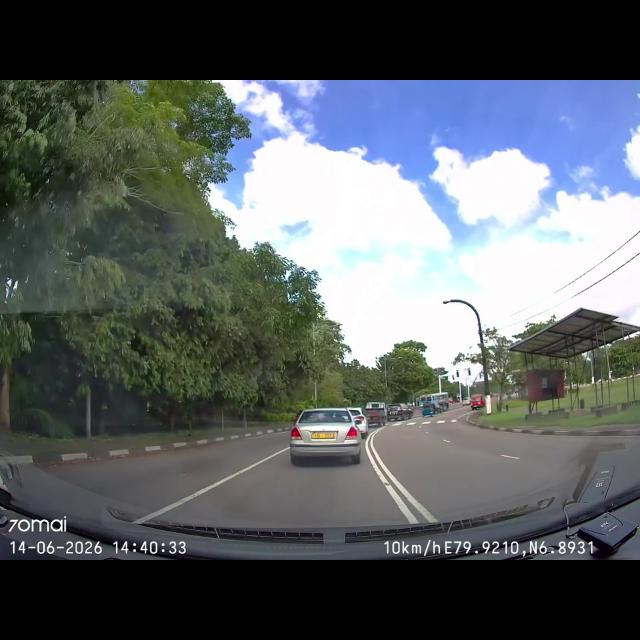car: (293, 408, 359, 460)
double_solid_line: (364, 454, 432, 526)
truck: (370, 406, 384, 422)
